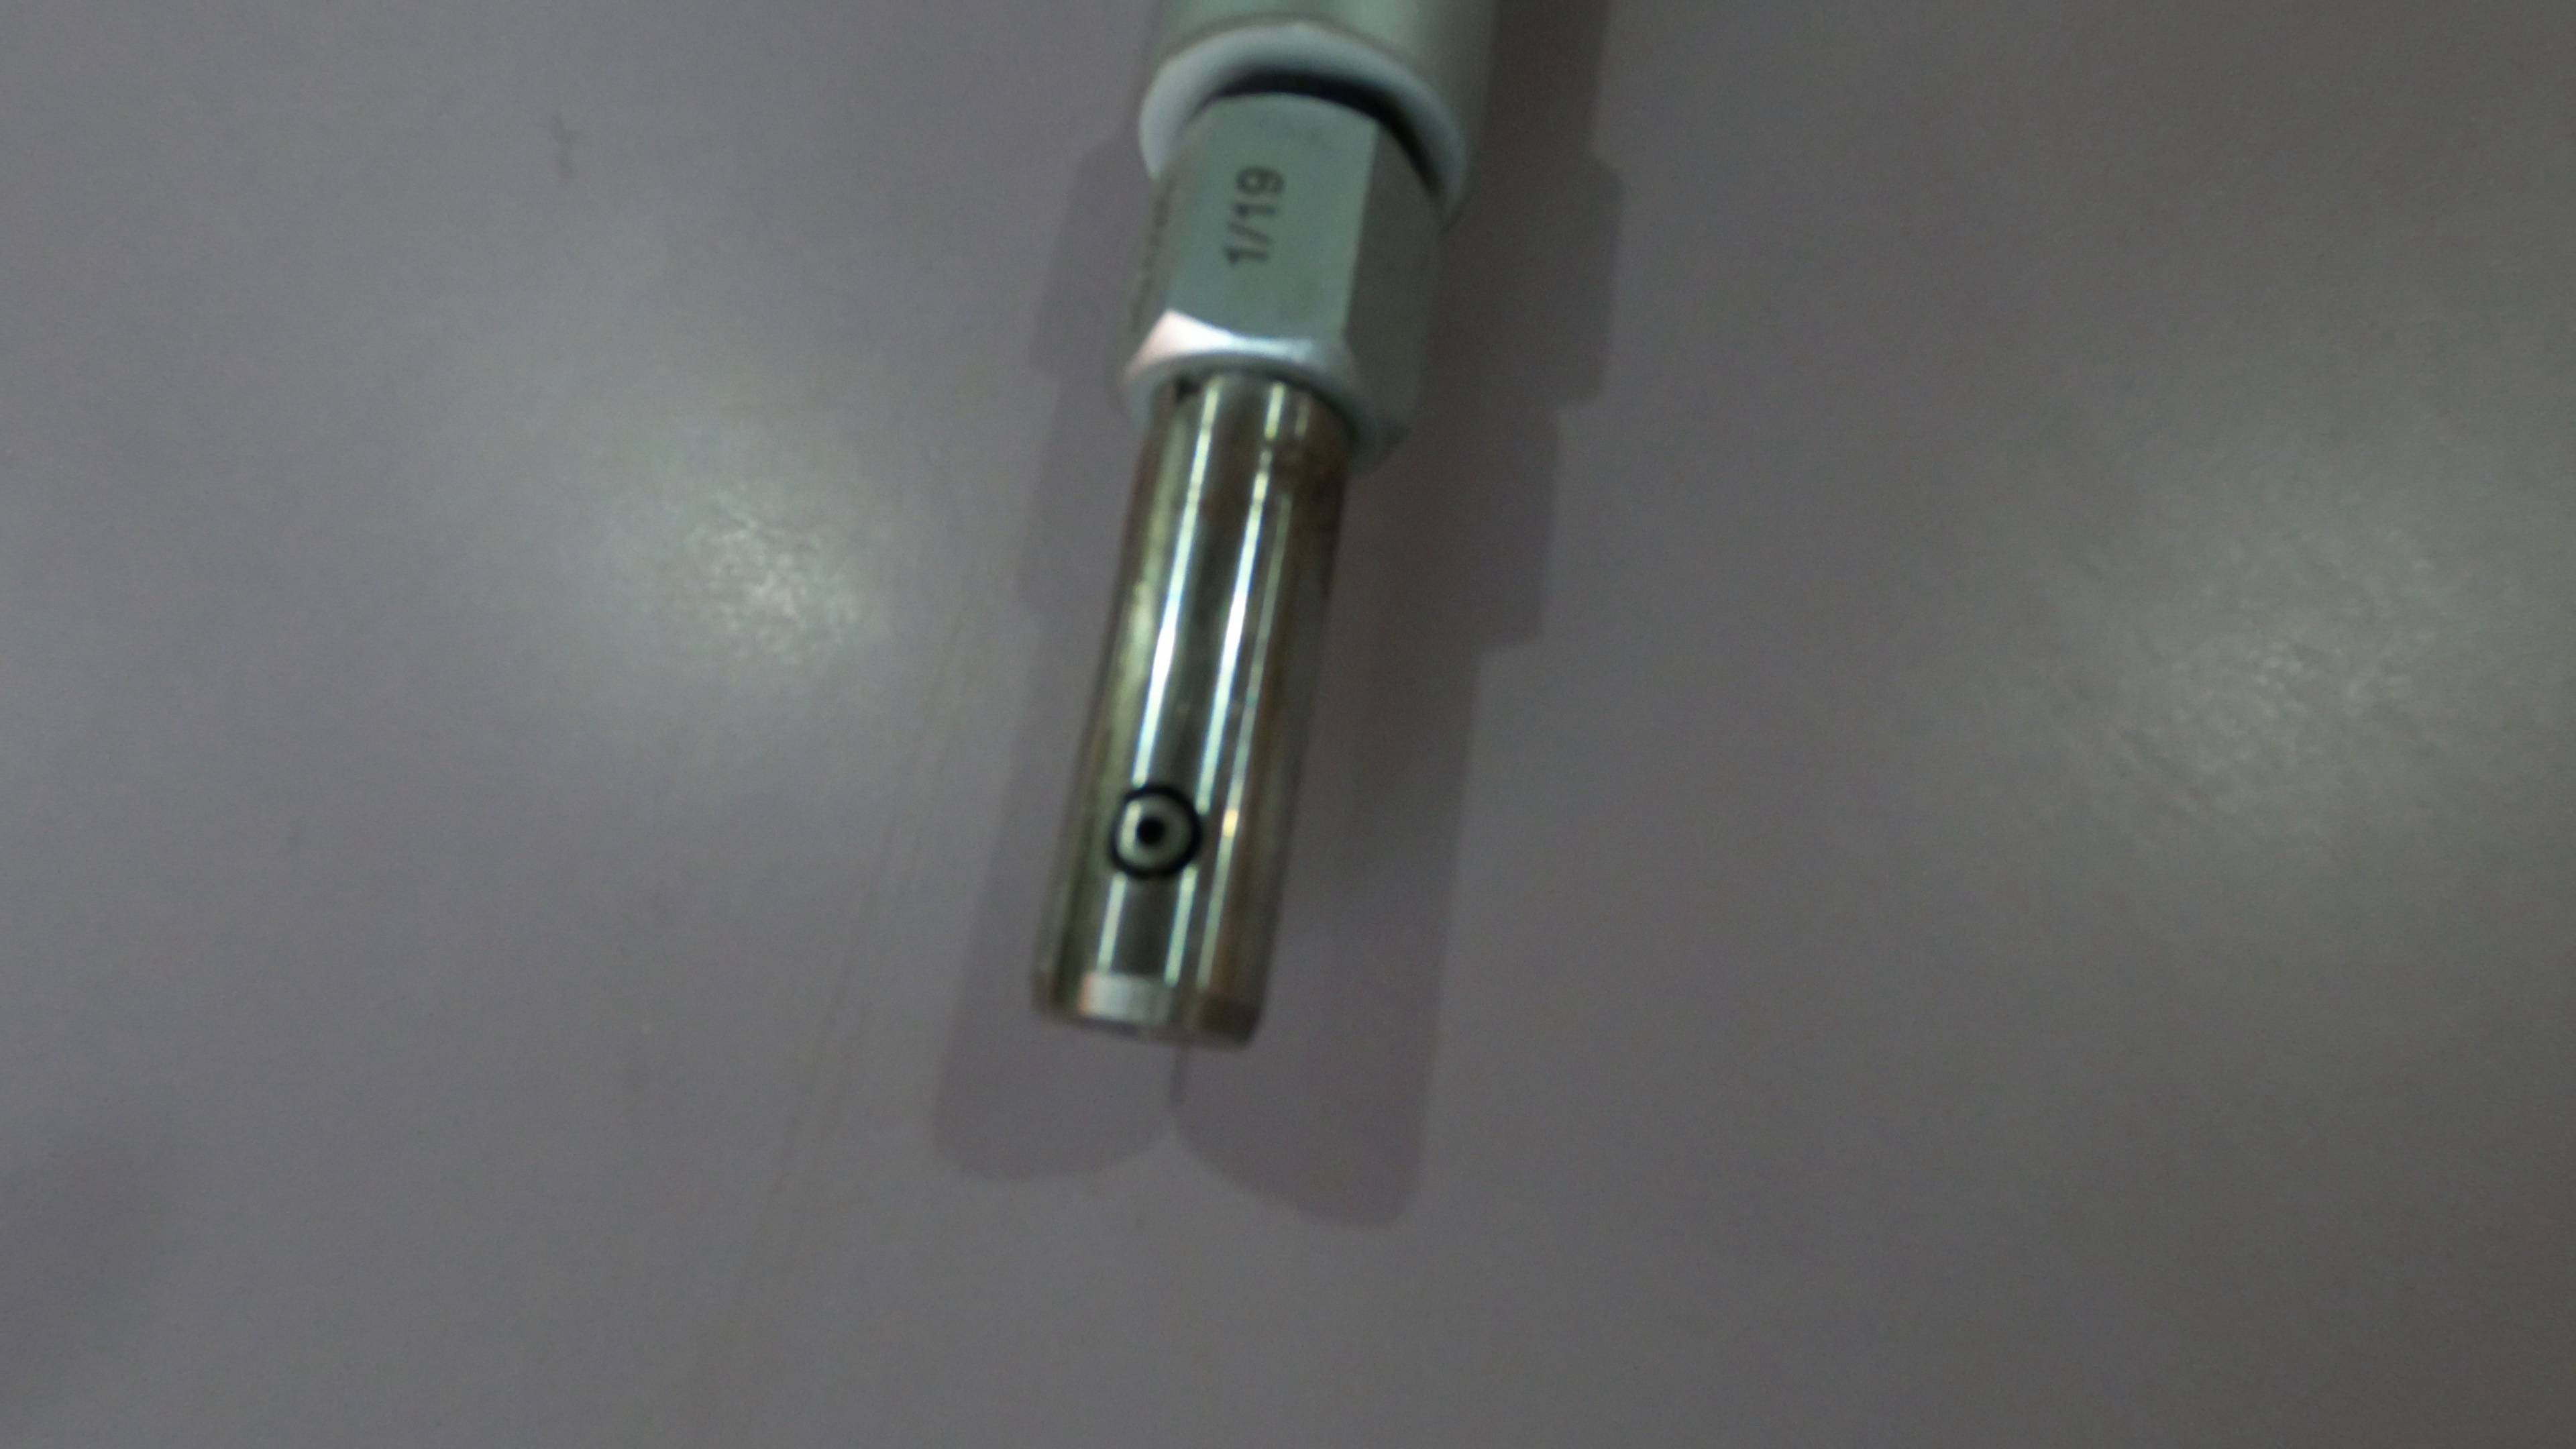air_gauge: (1019, 7, 1483, 1042)
